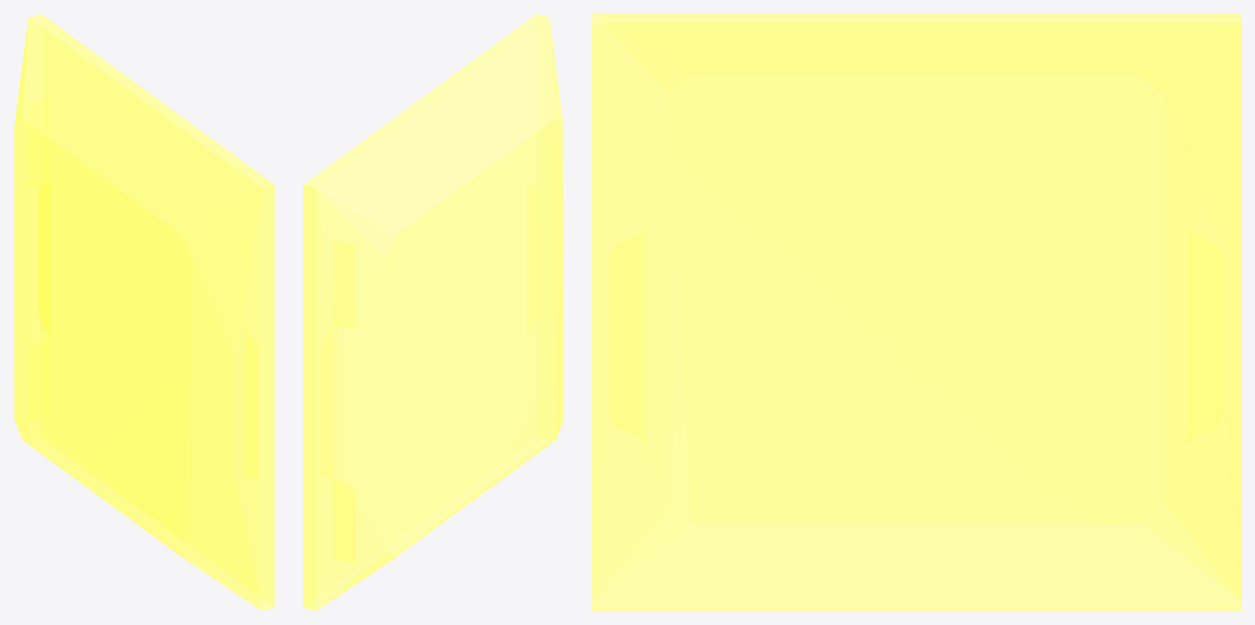
The model's file is ghost_cpu_final.glb.
3 renders of one model, left to right at view 1: azimuth 30°, elevation 25°; view 2: azimuth 150°, elevation 25°; view 3: azimuth 270°, elevation 25°, orthographic. The views are drawn at different scales.
Visible parts, largest first — view 1: GHOST_CPU; view 2: GHOST_CPU; view 3: GHOST_CPU.
Part boxes in pixels (left/top/right/bottom): GHOST_CPU: left=14, top=14, right=274, bottom=610; GHOST_CPU: left=303, top=14, right=563, bottom=610; GHOST_CPU: left=592, top=14, right=1240, bottom=610.
Bounding box in the file's own units: 0.00455 × 0.0334 × 0.0334.
